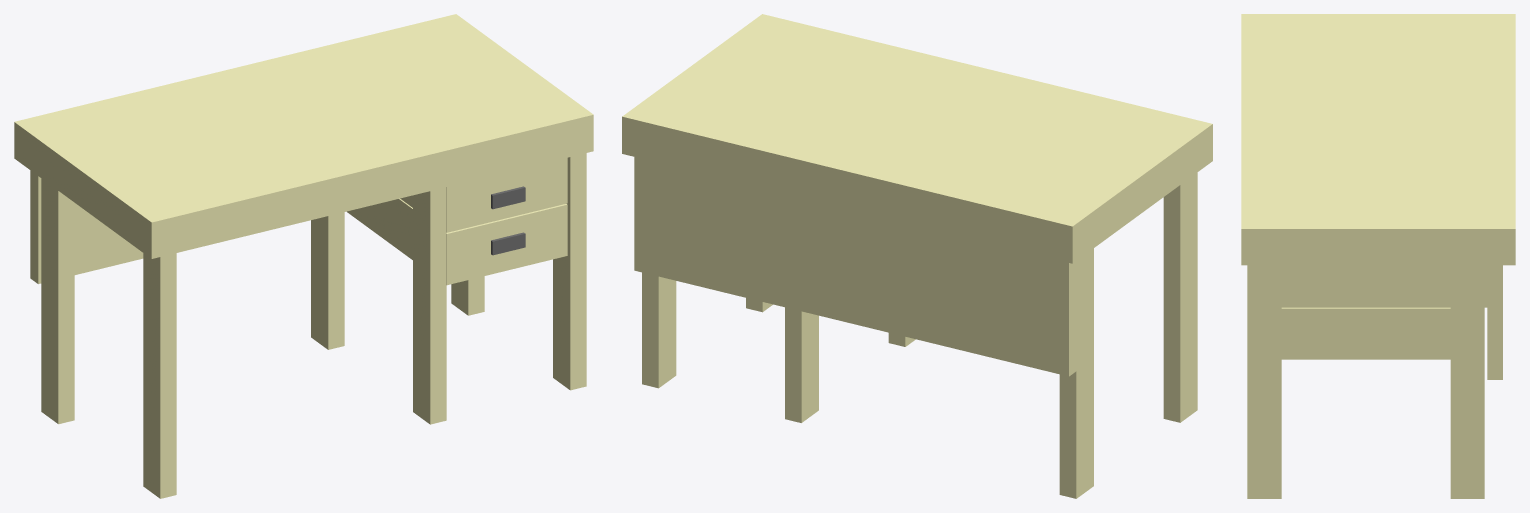
Rendered from table.fbx.
The picture shows the model from 3 angles, left to right: view 1: azimuth 30°, elevation 25°; view 2: azimuth 150°, elevation 25°; view 3: azimuth 270°, elevation 25°; orthographic projection. The views are drawn at different scales.
Parts seen in each view (by area): view 1: Cube.050; view 2: Cube.050; view 3: Cube.050.
Part boxes in pixels (x1=…): Cube.050: x1=14, y1=14, x2=593, y2=498; Cube.050: x1=622, y1=14, x2=1212, y2=498; Cube.050: x1=1241, y1=14, x2=1515, y2=498.
Size of the model in its own units: 123 by 74.78 by 66.25.
Materials: 1 (1 with a texture image).
